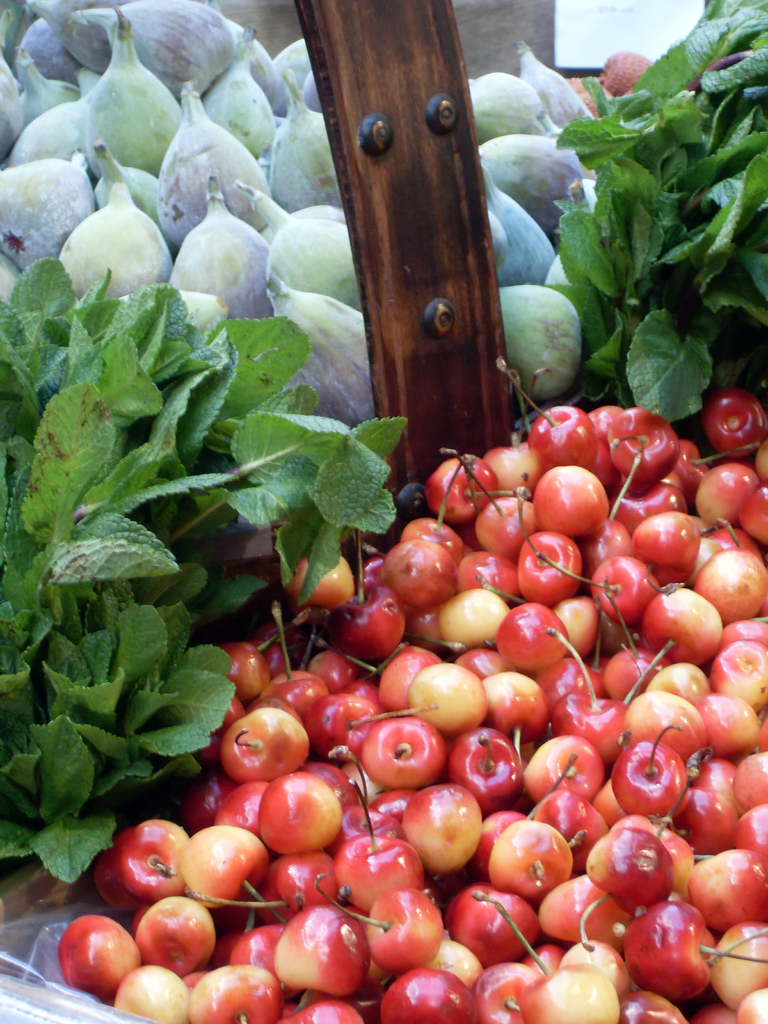Apple: (343, 725, 454, 794)
